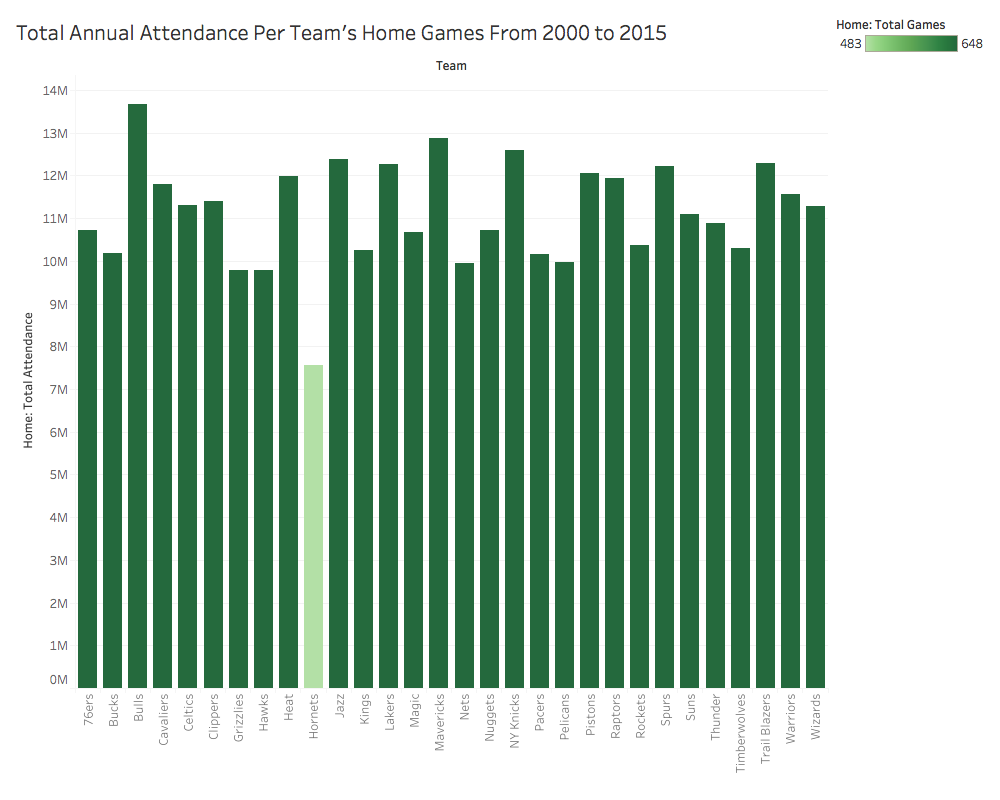

What the dashboard file says about the page in this screenshot:
{"tool":"tableau","page":{"name":"Dashboard 1","canvas":[1000,800],"ordinal":0},"visuals":[{"type":"worksheet","title":"Sheet 1","mark":"Automatic","rows":["Team"],"cols":[" Total Attendance"],"box":[8,8,824,784]},{"type":"legend","title":"Sheet 1","param":"[federated.00uhm0e1355ta71ero8c80fyin8d].[none:Starting Year:qk]","box":[832,8,160,65]}]}

Visuals, with their boxes in screenshot pixels (x1, y1, x2, y2), scaled from the page's 1000x800 canvas onto the 1000x800 screenshot:
"Sheet 1" worksheet: detection(8, 8, 832, 792)
"Sheet 1" legend: detection(832, 8, 992, 73)
